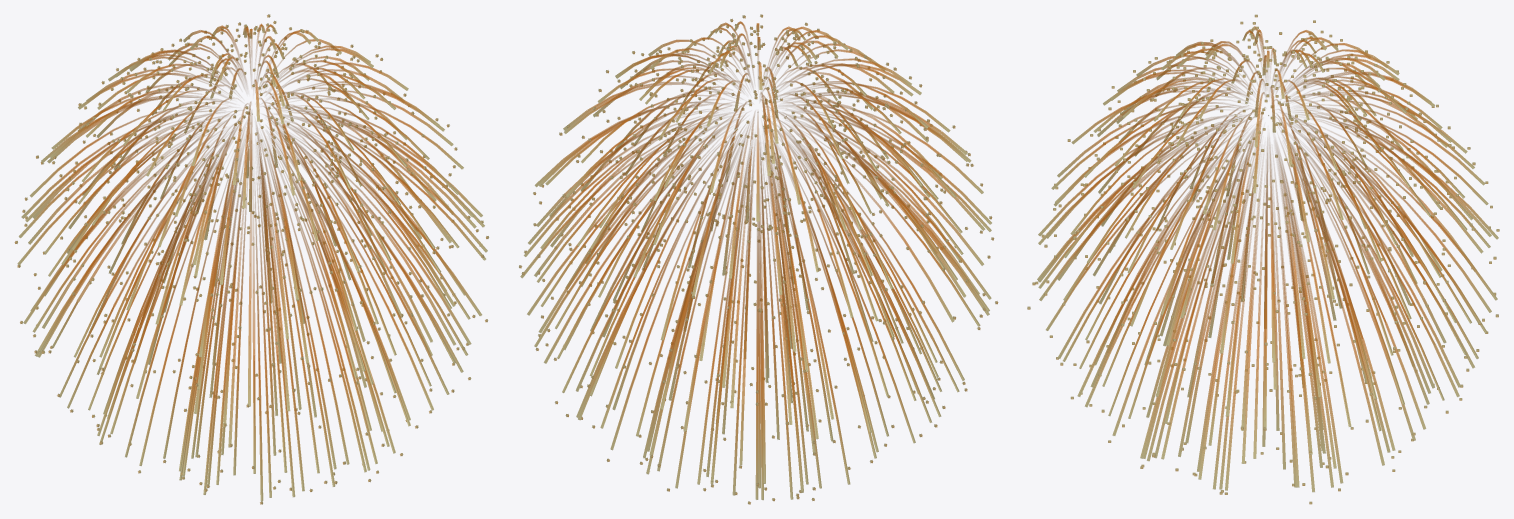
File: fw_willow_gold_b.glb
3 views of the same model, side by side, from view 1: azimuth 30°, elevation 25°; view 2: azimuth 150°, elevation 25°; view 3: azimuth 270°, elevation 25° (orthographic). The views are drawn at different scales.
Parts seen in each view (by area): view 1: spire; view 2: spire; view 3: spire.
Boxes of the visible parts, x1=… form: spire: x1=14, y1=14, x2=489, y2=504; spire: x1=519, y1=14, x2=998, y2=504; spire: x1=1027, y1=14, x2=1499, y2=504.
Bounding box in the file's own units: 21.8 × 21.99 × 21.42.
2 materials, 2 textured.
